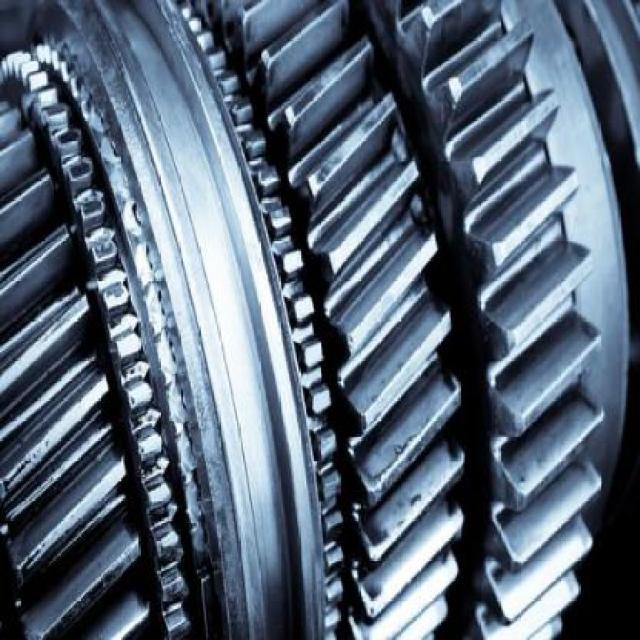Gear: (194, 0, 468, 640), (359, 0, 609, 640), (0, 40, 159, 640)
